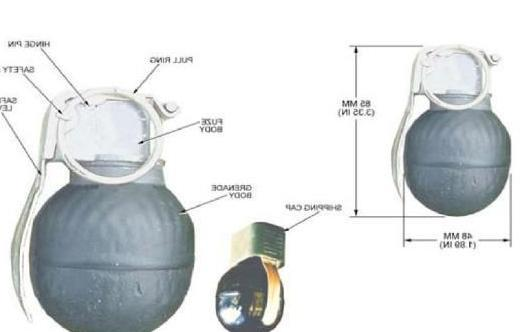Grenade: (9, 87, 195, 331), (390, 44, 512, 217), (213, 221, 288, 331)
